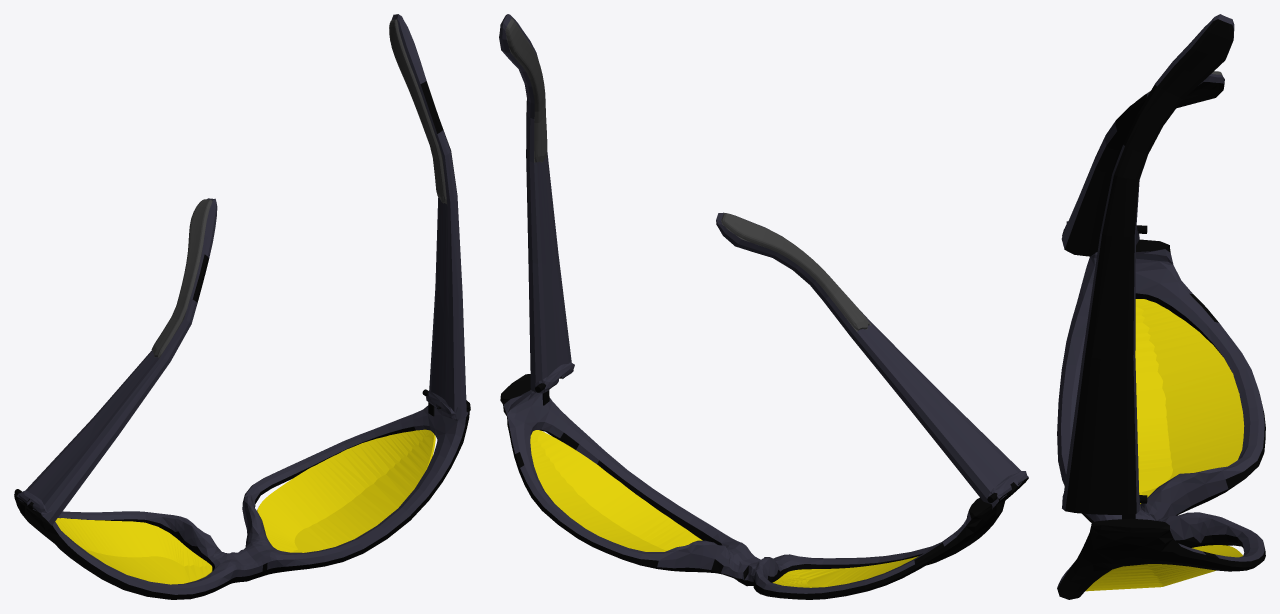
3 views of the same model, side by side, from view 1: azimuth 30°, elevation 25°; view 2: azimuth 150°, elevation 25°; view 3: azimuth 270°, elevation 25° (orthographic). The views are drawn at different scales.
Parts seen in each view (by area): view 1: sun glasses; view 2: sun glasses; view 3: sun glasses.
Part boxes in pixels (box(x1,y1,x2,y2)): sun glasses: box(14, 14, 470, 599); sun glasses: box(499, 14, 1028, 599); sun glasses: box(1057, 14, 1265, 599).
Bounding box in the file's own units: 600 × 640 × 181.
